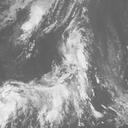cyclone: (35, 28, 90, 104)
